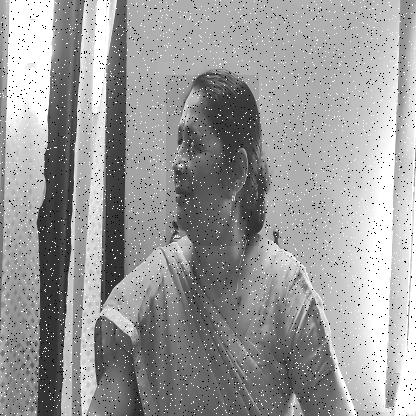Distracted: (166, 75, 259, 246)
